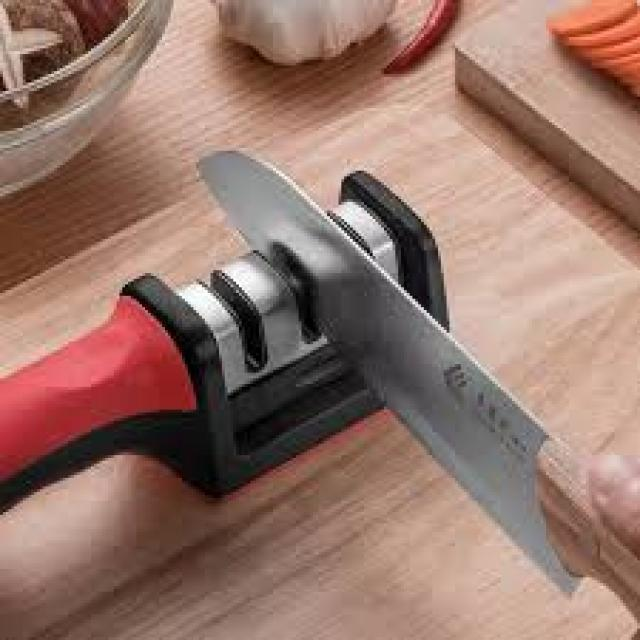knife: (194, 100, 609, 629)
